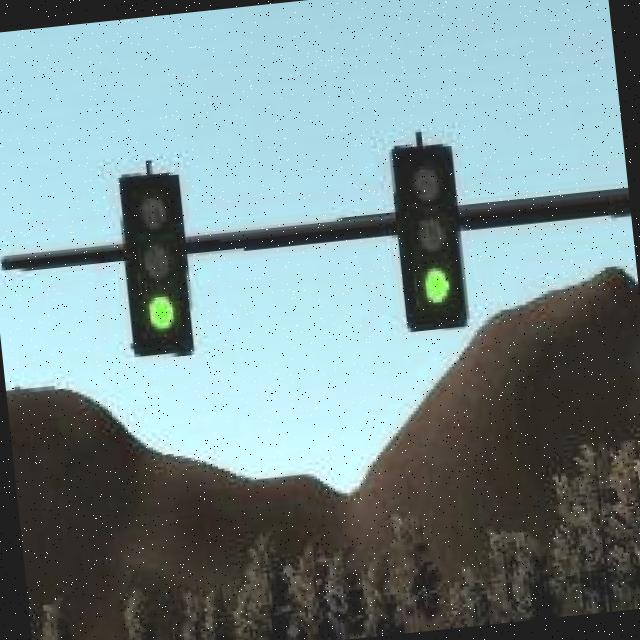Zielone swiatlo: (391, 139, 473, 331), (116, 170, 200, 357)
